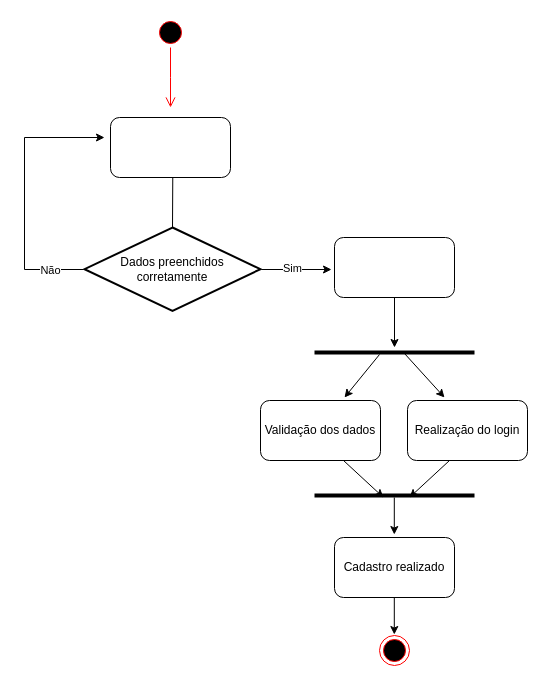
This 545x683 diagram has some shape labels left out. Here are the shapes that lost their labels. From the top down, the centre of each, then its label:
(x=170, y=147): Realizar o cadastro
(x=394, y=267): Envio dos dados para o banco de dados
